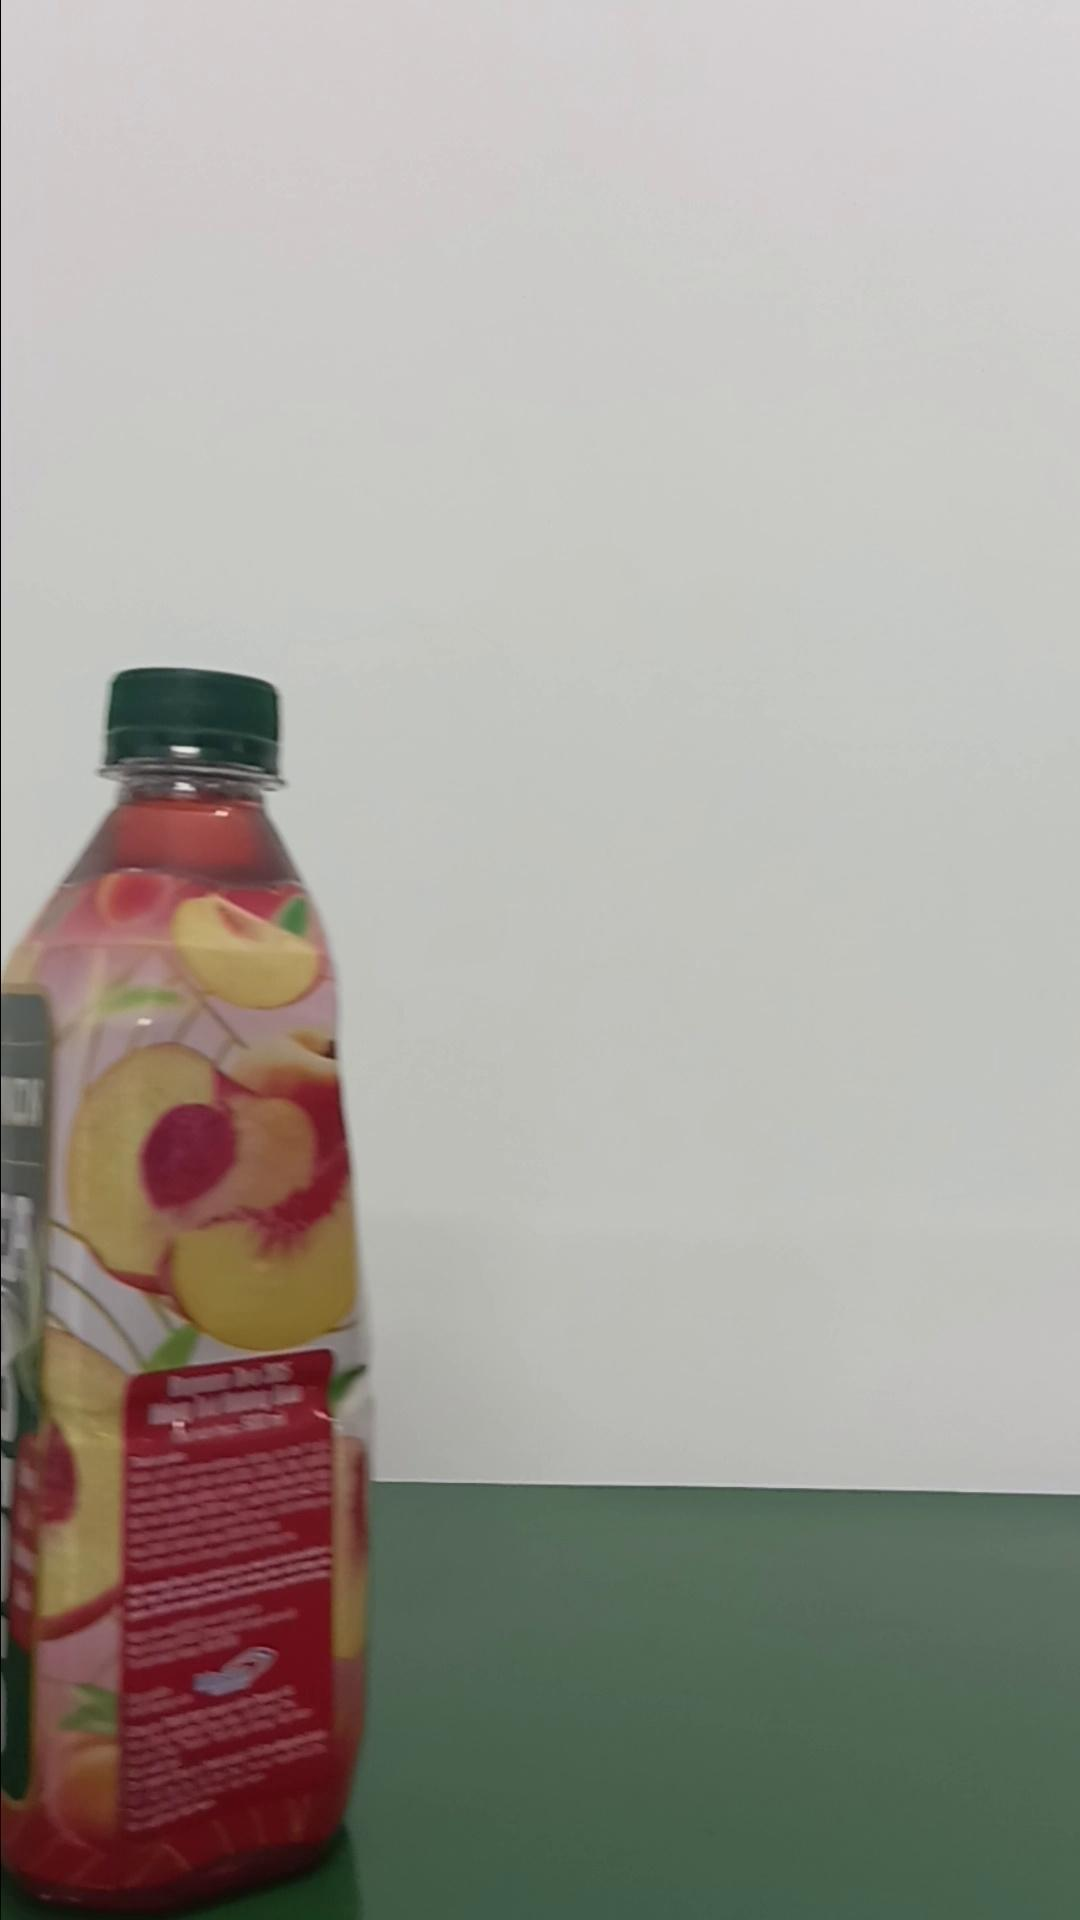loi meo sp: (3, 665, 375, 1908)
